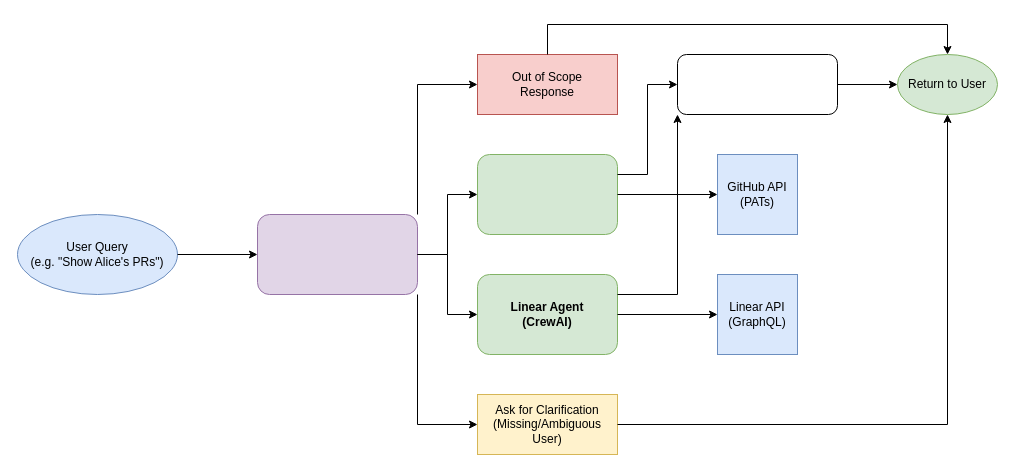
Image size: 1015x472. Some labels were removed from this diagram. The shapes that lost their labels are listed below. From the top down, each one's centre as x and y in pixels, then its label:
At point 757,84: "Response & Fallback Post-Processor".
At point 547,194: "GitHub Agent (CrewAI)".
At point 337,254: "Classifier Router (LLM + Instructor) Extracts: Domain, User".
